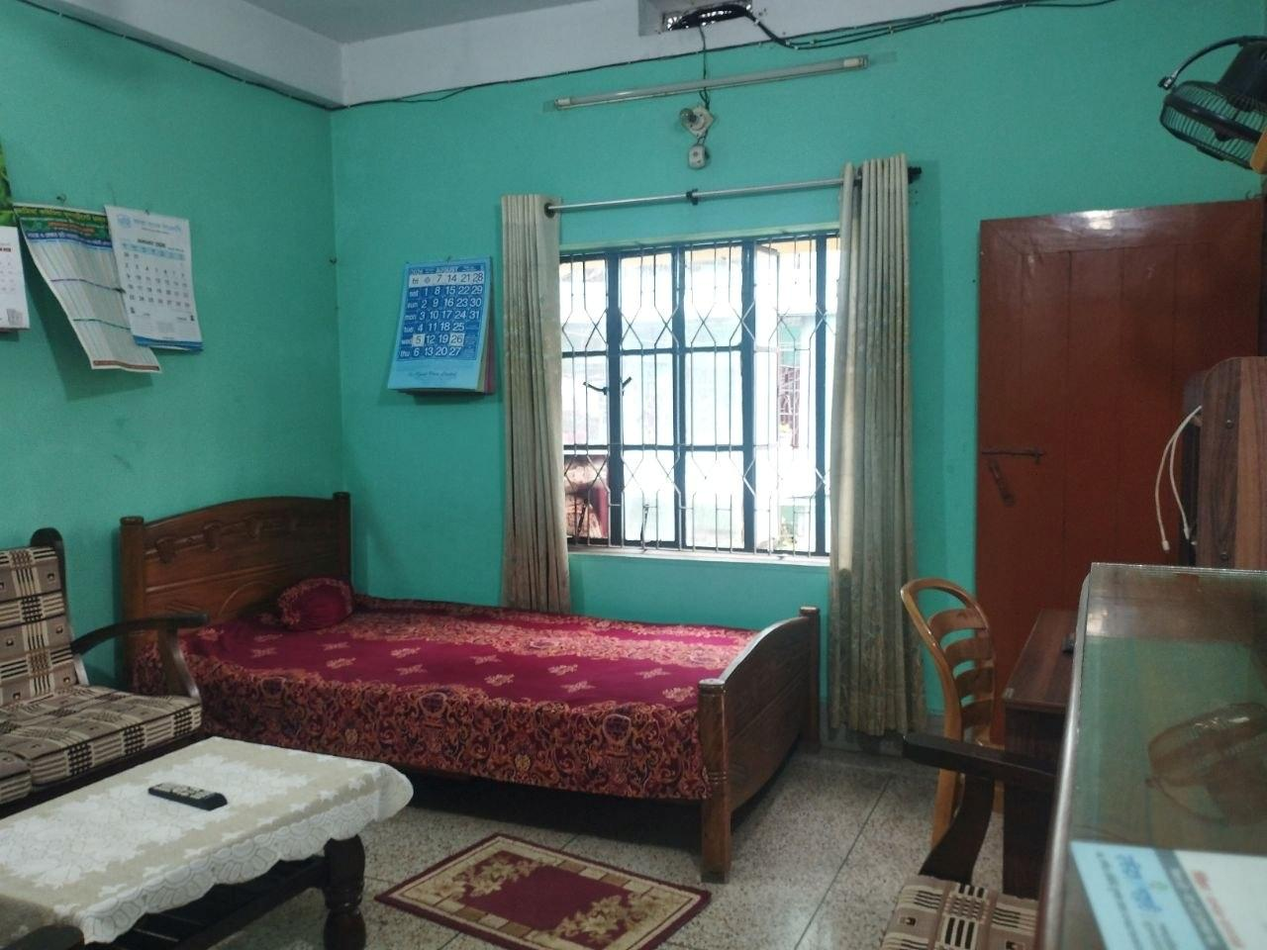Chair: (866, 559, 1013, 873)
Door: (981, 190, 1267, 567)
Fan: (1130, 28, 1267, 186)
Floor Mat: (379, 815, 712, 948)
Light: (543, 52, 876, 135)
Pillow: (270, 577, 355, 633)
Remote: (145, 775, 236, 817)
Table: (0, 732, 401, 950)
Window: (555, 238, 847, 549)
